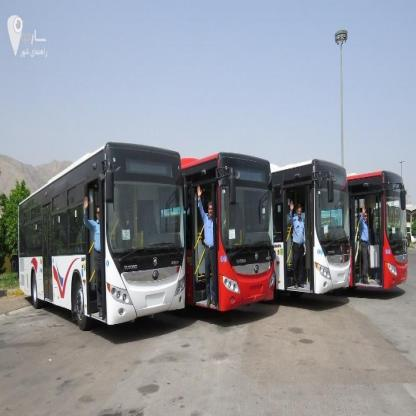Bus: (16, 138, 188, 335), (182, 151, 277, 312), (274, 159, 352, 299), (351, 169, 412, 307)
